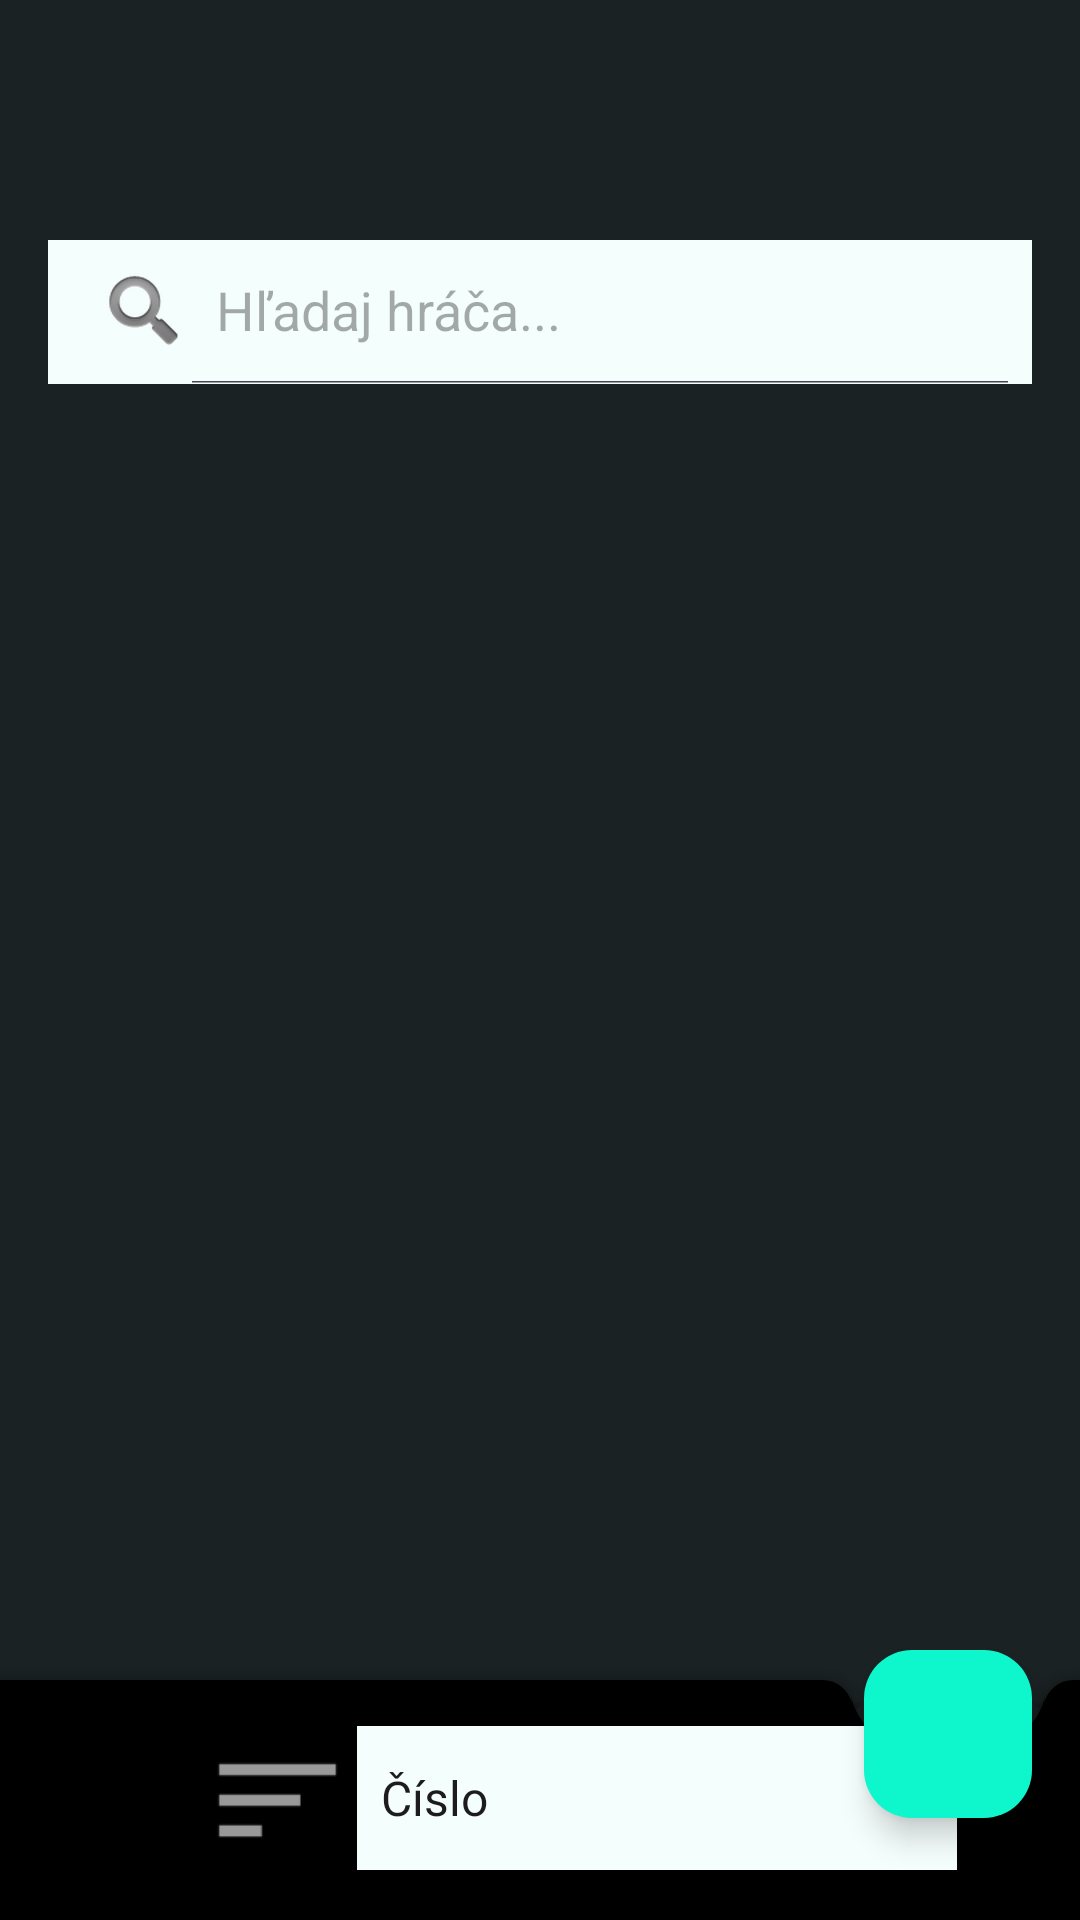

Where icons sit on this 1080 x 1920 app screen, as (x1, y1, x2, y2):
sort by size: (218, 1763, 337, 1837)
